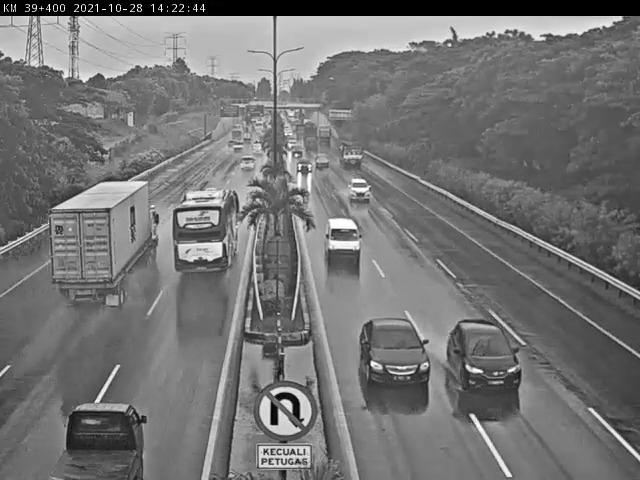big bus: (167, 184, 240, 277)
big truck: (44, 176, 160, 309), (337, 141, 366, 170)
car: (53, 389, 150, 480), (350, 307, 438, 396), (448, 316, 527, 402), (320, 214, 363, 266), (347, 177, 372, 202), (238, 154, 255, 173), (297, 158, 313, 176), (314, 154, 330, 170), (289, 144, 304, 159), (251, 141, 267, 155)
